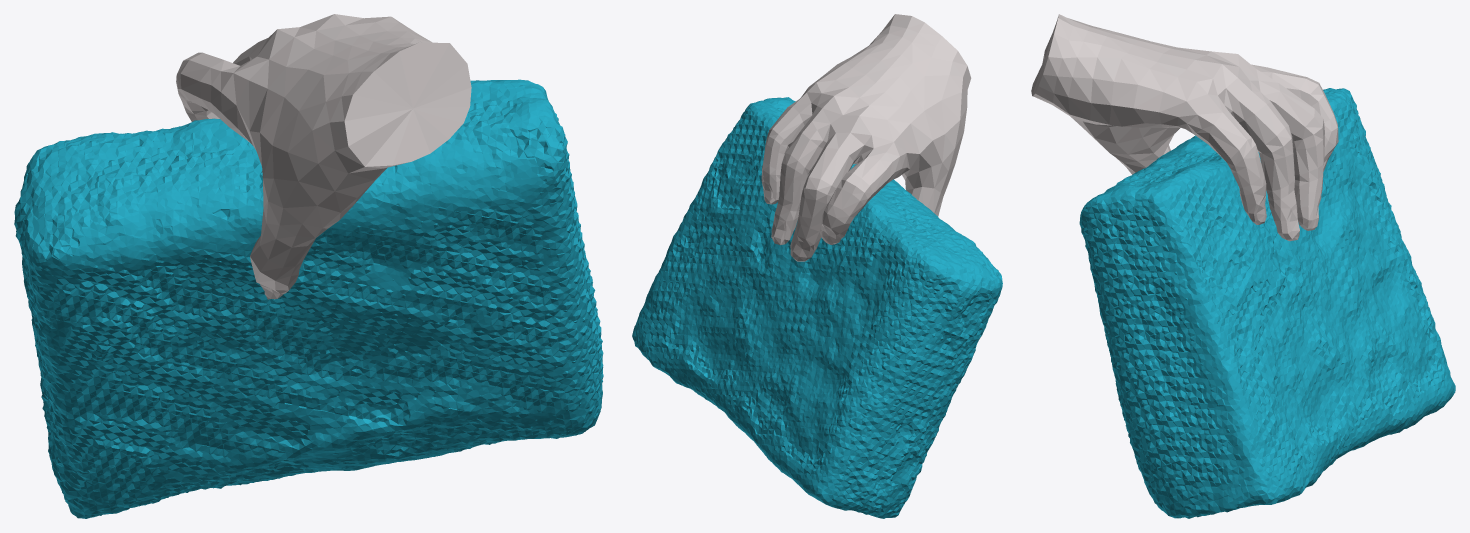
The picture shows the model from 3 angles, left to right: view 1: azimuth 30°, elevation 25°; view 2: azimuth 150°, elevation 25°; view 3: azimuth 270°, elevation 25°; orthographic projection. The views are drawn at different scales.
Visible parts, largest first — view 1: world; view 2: world; view 3: world.
Boxes of the visible parts, x1,y1,x2,y2 form: world: (14,14,603,518); world: (632,14,1002,518); world: (1031,14,1455,518).
Bounding box in the file's own units: 0.2534 × 0.2536 × 0.2089.
